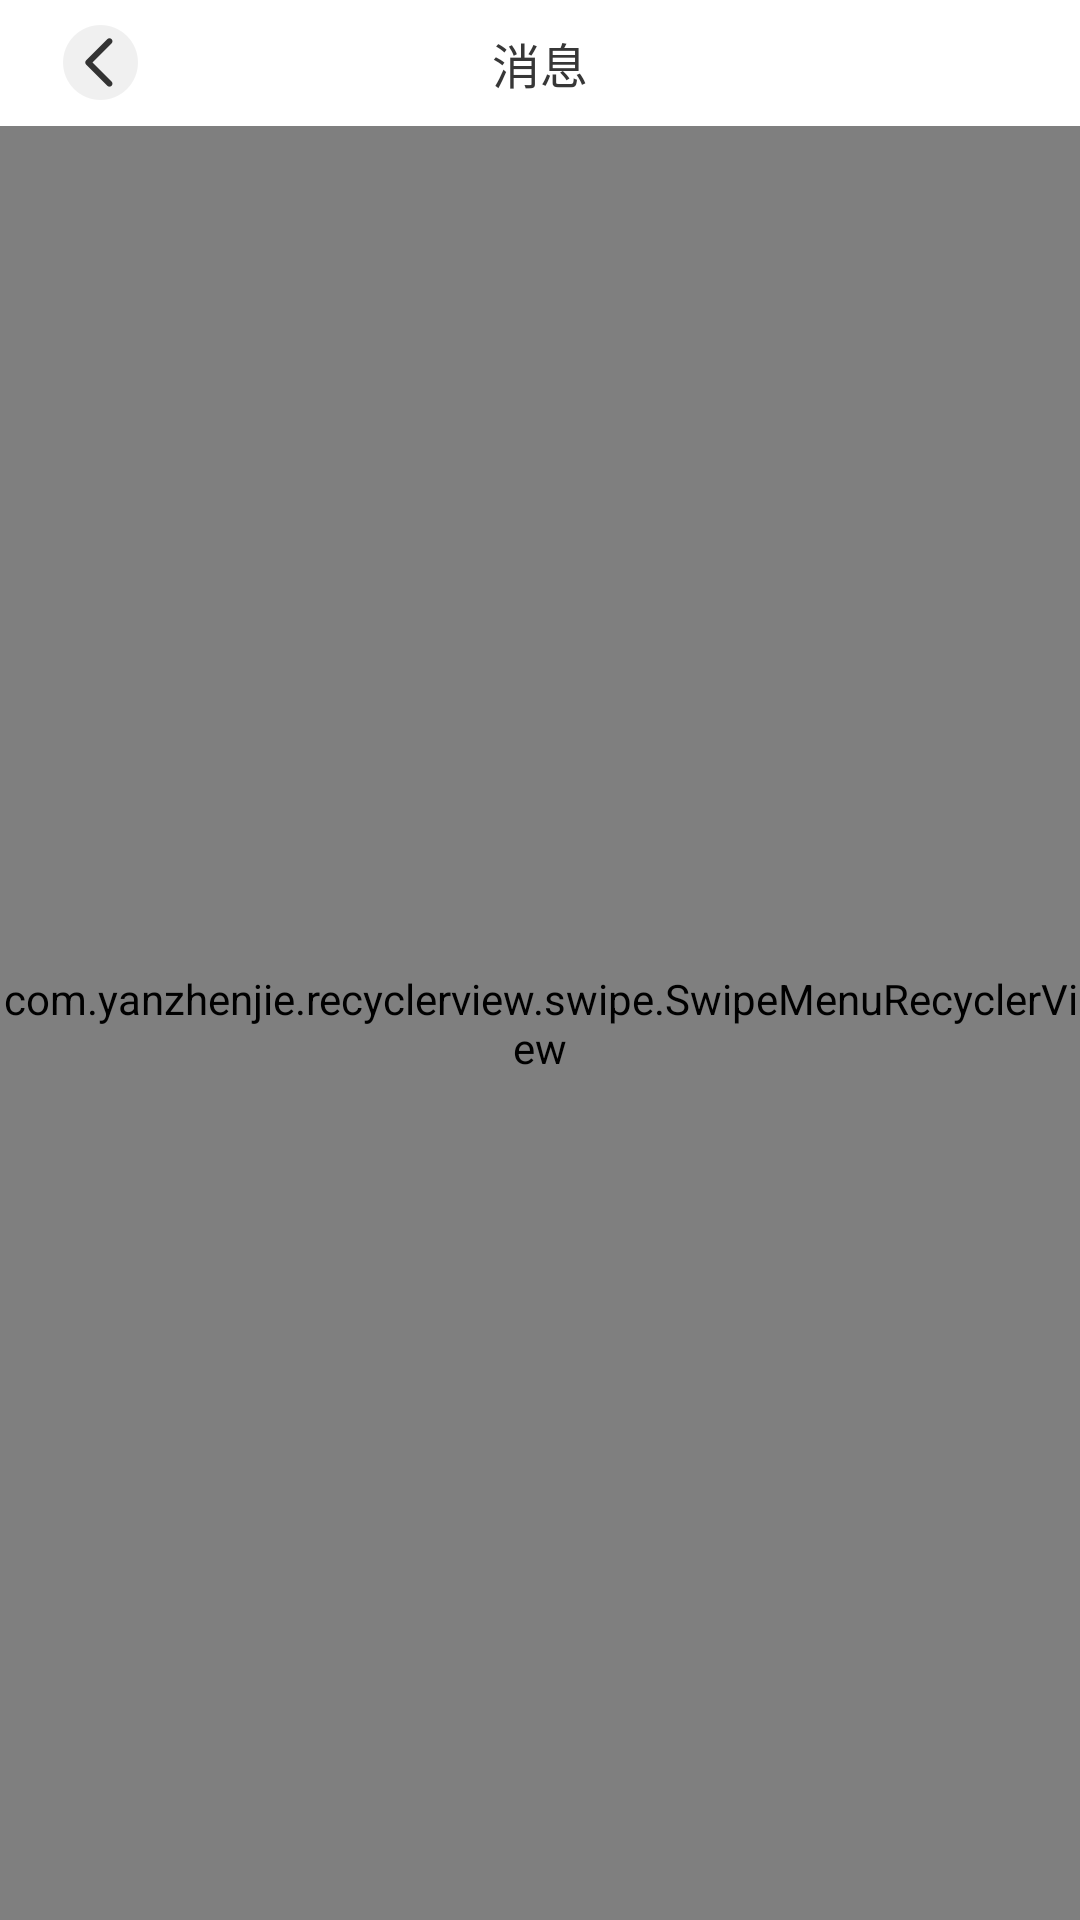

Named icons in this screenshot (1080px x 1920px) and their bounding boxes, (x1, y1, x2, y2):
back: (63, 25, 138, 100)
